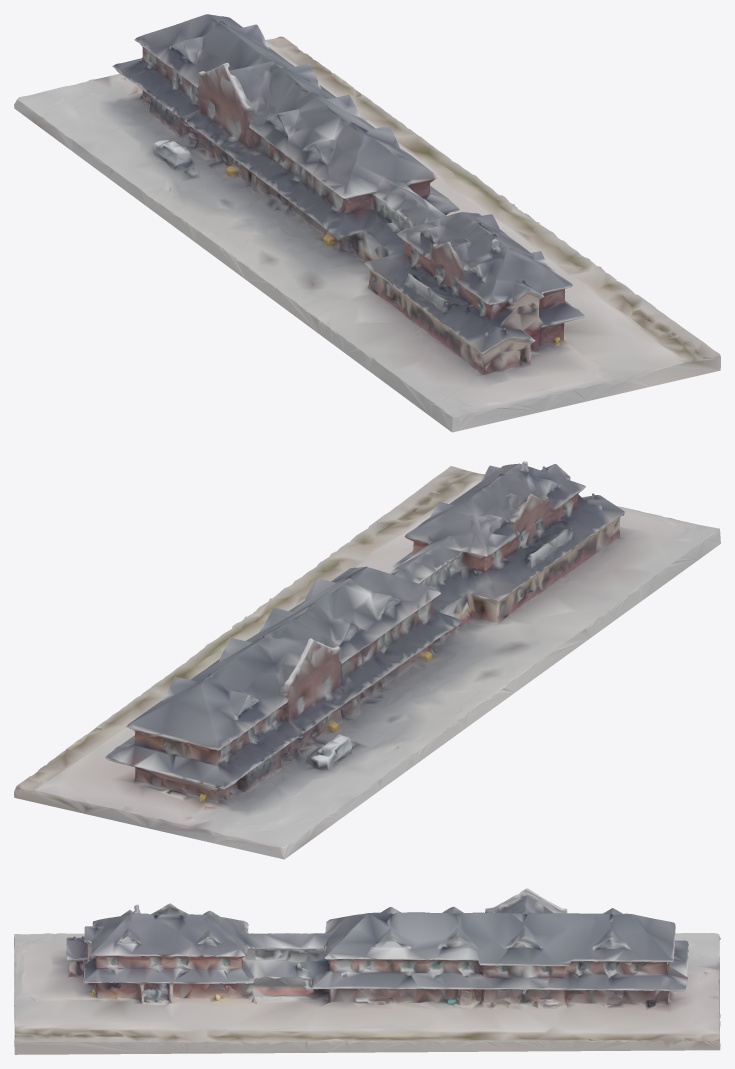
Rendered from gare-D9pvtL_T.glb.
The picture shows the model from 3 angles, top to bottom: view 1: azimuth 30°, elevation 25°; view 2: azimuth 150°, elevation 25°; view 3: azimuth 270°, elevation 25°; orthographic projection. The views are drawn at different scales.
Parts seen in each view (by area): view 1: TrainStation_Model_6_TrainStation_Model_6_u0_v0_0; view 2: TrainStation_Model_6_TrainStation_Model_6_u0_v0_0; view 3: TrainStation_Model_6_TrainStation_Model_6_u0_v0_0.
Boxes of the visible parts, left/top/right/bottom form: TrainStation_Model_6_TrainStation_Model_6_u0_v0_0: left=14, top=14, right=720, bottom=432; TrainStation_Model_6_TrainStation_Model_6_u0_v0_0: left=14, top=461, right=720, bottom=859; TrainStation_Model_6_TrainStation_Model_6_u0_v0_0: left=14, top=888, right=720, bottom=1054.
Size of the model in its own units: 12.98 by 5.46 by 36.33.
